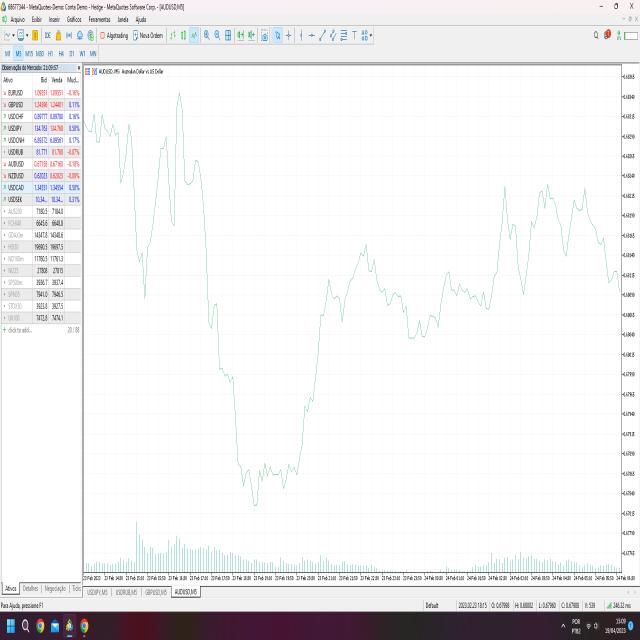bandeira_baixa: (213, 291, 238, 392)
fundo_duplo: (205, 328, 328, 534)
oco: (148, 85, 212, 244)
